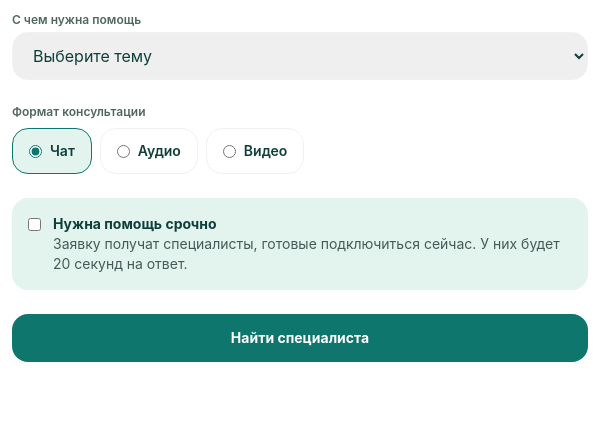
Test: RequestForm › не отправляет заявку без выбранной темы
Click the button "Найти специалиста" at point(300, 338), box [12,314,588,362]
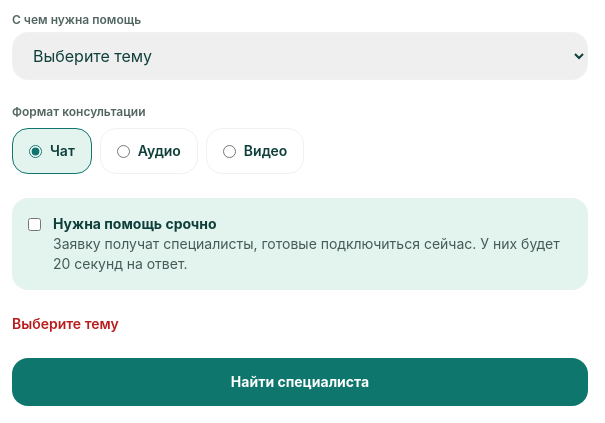
Now the message shows "тем", box [12,315,119,332]
